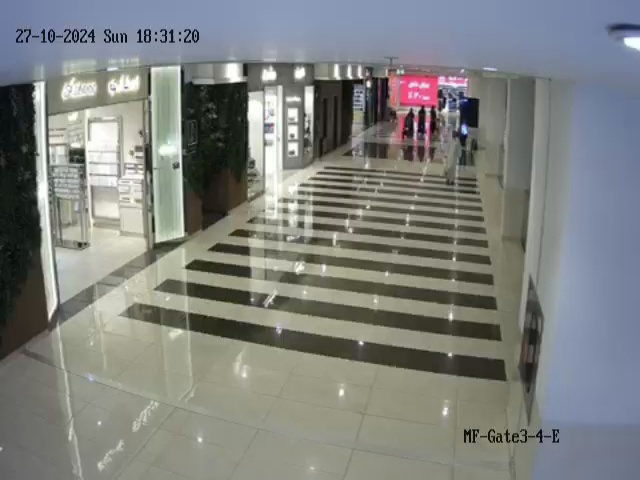female: (428, 102, 440, 135), (403, 108, 415, 139), (417, 106, 426, 136)
male: (443, 129, 461, 189)
